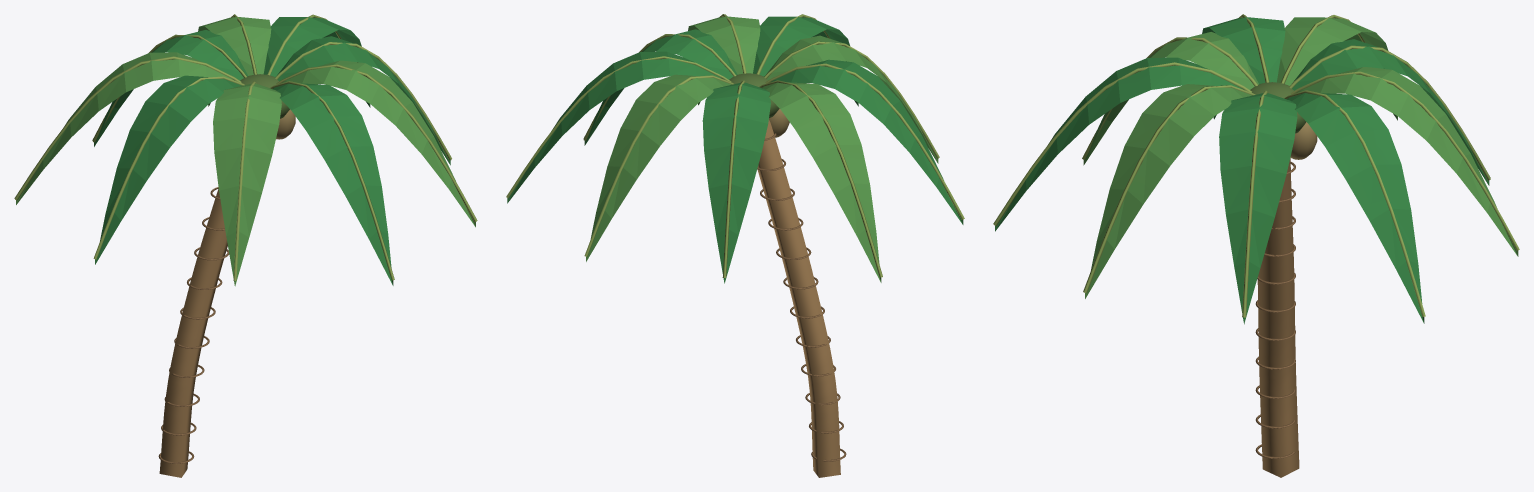
Rendered from palm.glb.
3 views of the same model, side by side, from view 1: azimuth 30°, elevation 25°; view 2: azimuth 150°, elevation 25°; view 3: azimuth 270°, elevation 25° (orthographic). The views are drawn at different scales.
Size of the model in its own units: 2.79 by 2.88 by 3.01.
